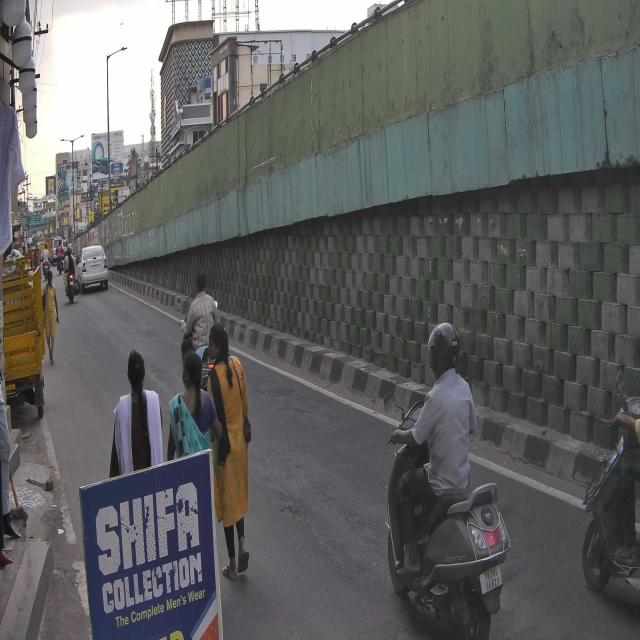single_rider: (383, 319, 510, 640)
